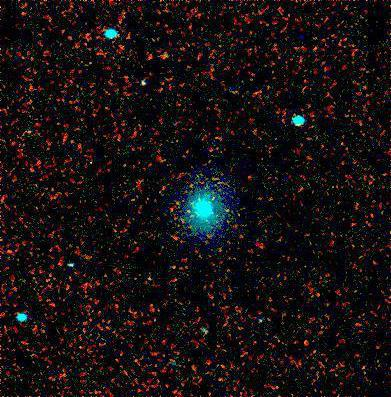star: (149, 42, 179, 72)
